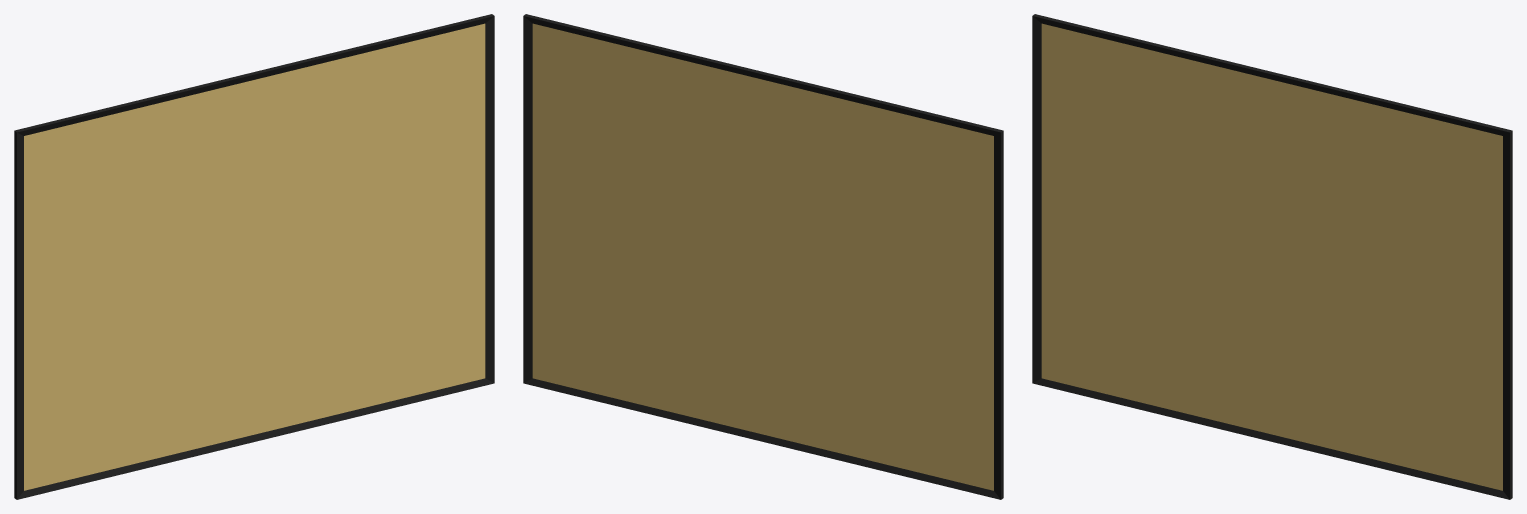
File: Wall1.fbx
3 renders of one model, left to right at view 1: azimuth 30°, elevation 25°; view 2: azimuth 150°, elevation 25°; view 3: azimuth 330°, elevation 25°, orthographic.
Parts seen in each view (by area): view 1: Wall; view 2: Wall; view 3: Wall.
Part boxes in pixels (left/top/right/bottom): Wall: left=14, top=14, right=494, bottom=499; Wall: left=523, top=14, right=1003, bottom=499; Wall: left=1032, top=14, right=1512, bottom=499.
Bounding box in the file's own units: 600 × 441 × 5.85.
